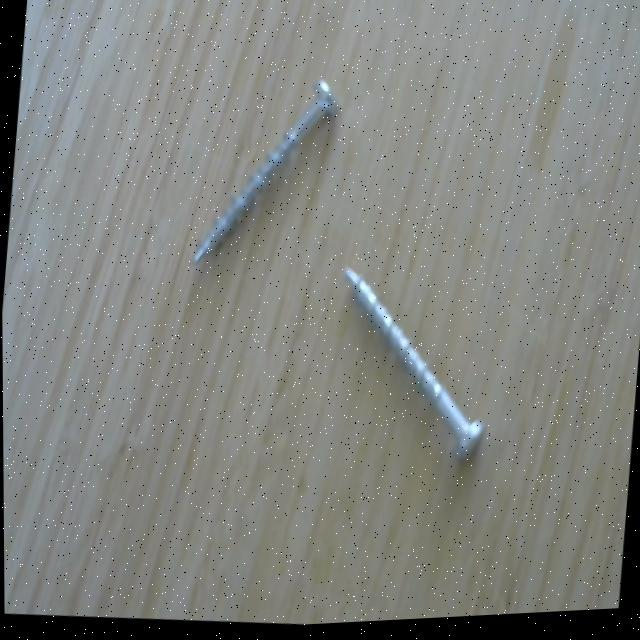Medium screw: (323, 254, 502, 482), (185, 65, 345, 287)
